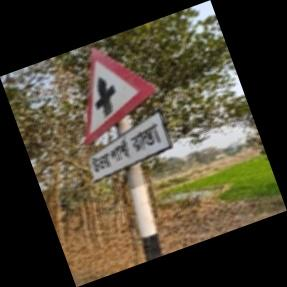Crossroad: (82, 46, 172, 187)
